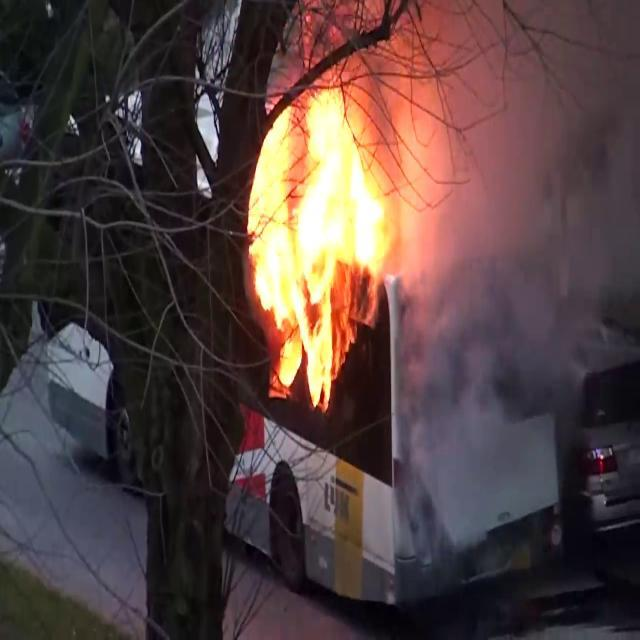Fire: (243, 78, 402, 404)
Smoke: (388, 0, 640, 514)
